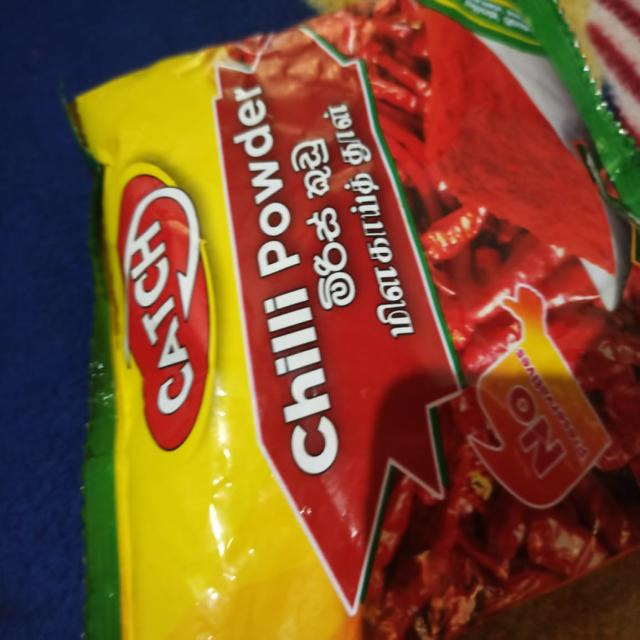Chilli Powder: (45, 1, 640, 640)
